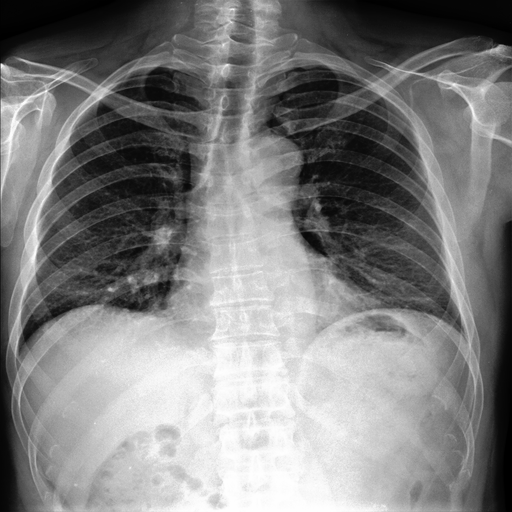Calcification: (131, 63, 187, 76), (288, 59, 347, 71)
Consolidation: (239, 135, 305, 189)
